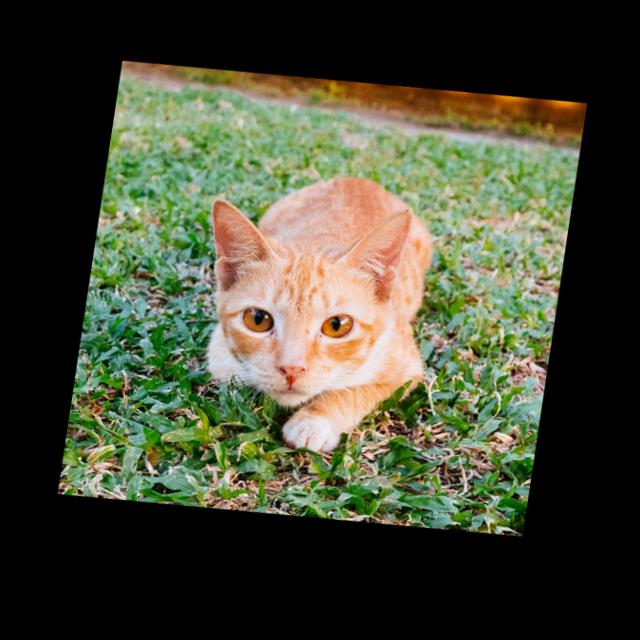animals: (176, 155, 450, 477)
